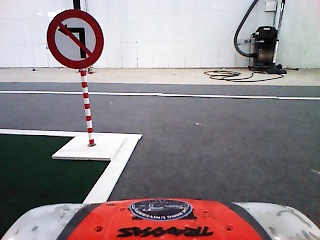ban: (44, 7, 107, 73)
